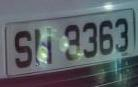3: (62, 19, 83, 63), (81, 18, 100, 61), (113, 15, 130, 58)
6: (97, 15, 114, 59)
N: (31, 23, 56, 69)
S: (11, 26, 35, 72)
